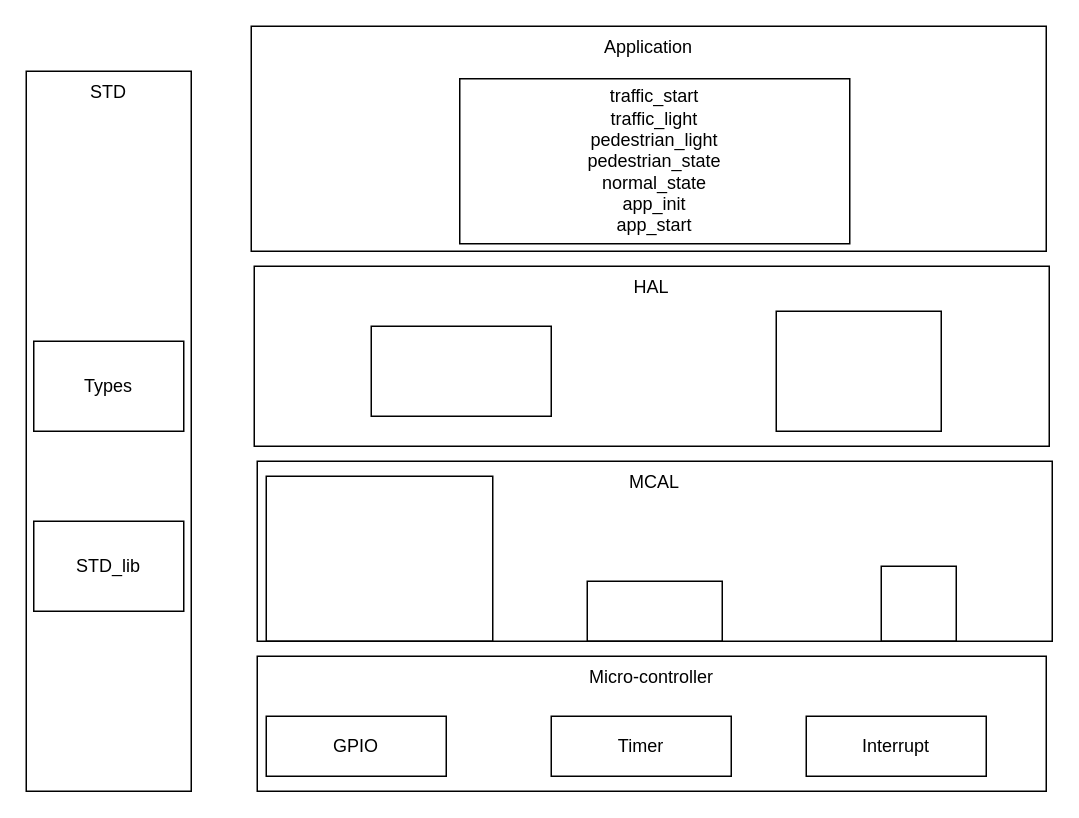
Some shapes in this 1079 by 818 pixel diagram are drawn without their labels. The shapes that lost their labels are listed below. From the top down, each one's centre as x and y in pixels, then its label:
the point at 460,370: Button_init Button
the point at 858,370: LED_init LED_on LED_off LED_toggle
the point at 379,558: DIO_read DIO_write DIO_toggle DIO_direction
the point at 654,610: _delay_ms
the point at 918,603: INT_init
